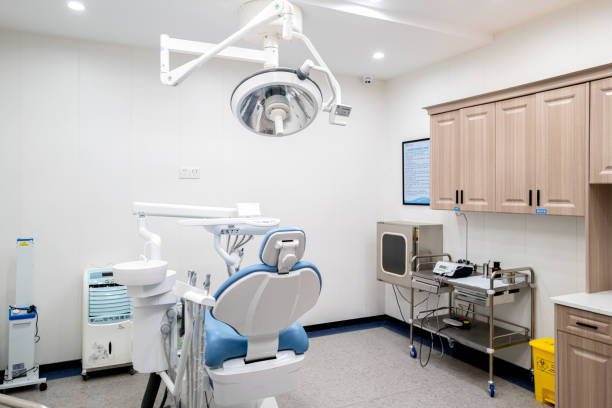cabinet: (423, 104, 610, 213)
counter: (554, 286, 611, 407)
countertop: (556, 277, 612, 313)
exam_table: (192, 226, 322, 403)
handle: (569, 314, 601, 337), (535, 187, 543, 211), (525, 189, 532, 212), (454, 189, 459, 206), (460, 190, 465, 207)
sink: (110, 258, 170, 286)
surgical_light: (226, 55, 346, 153)
utility_cart: (408, 252, 538, 398)
